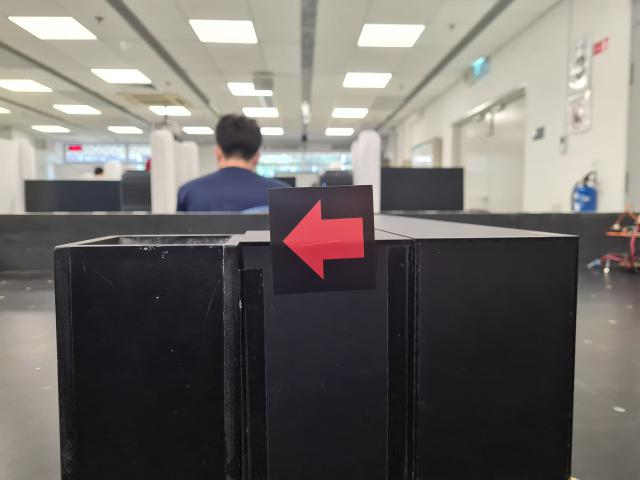left: (267, 184, 378, 294)
